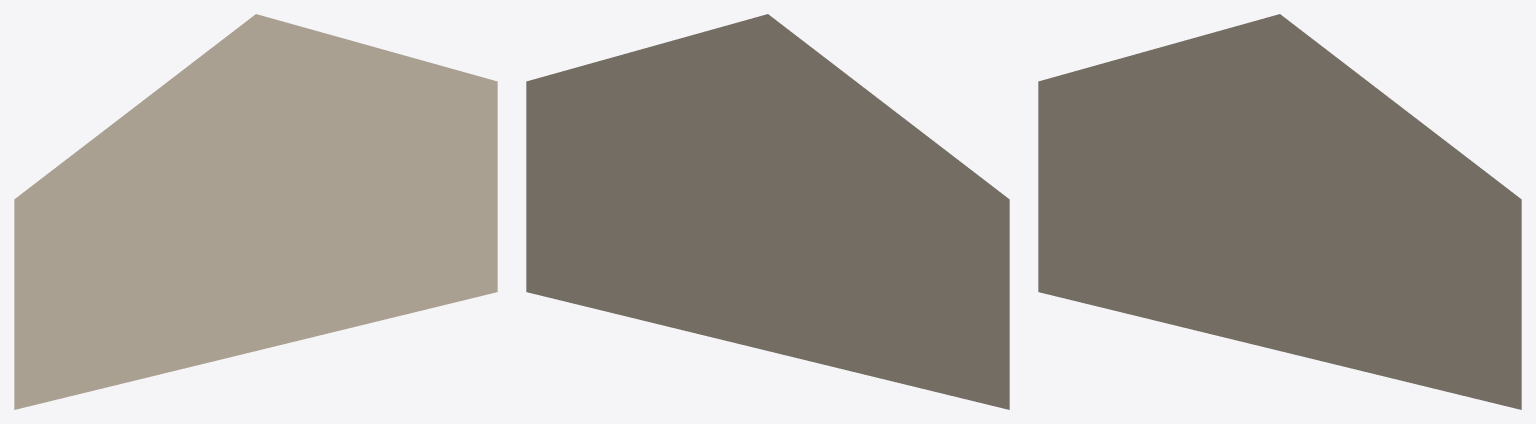
Rendered from back.obj.
3 renders of one model, left to right at view 1: azimuth 30°, elevation 25°; view 2: azimuth 150°, elevation 25°; view 3: azimuth 330°, elevation 25°, orthographic.
Parts seen in each view (by area): view 1: Back_Plane.013; view 2: Back_Plane.013; view 3: Back_Plane.013.
Part boxes in pixels (bbox=[...]): Back_Plane.013: bbox=[14, 14, 497, 409]; Back_Plane.013: bbox=[526, 14, 1009, 409]; Back_Plane.013: bbox=[1038, 14, 1521, 409].
Bounding box in the file's own units: 6 × 4 × 0.
1 material, 1 textured.
